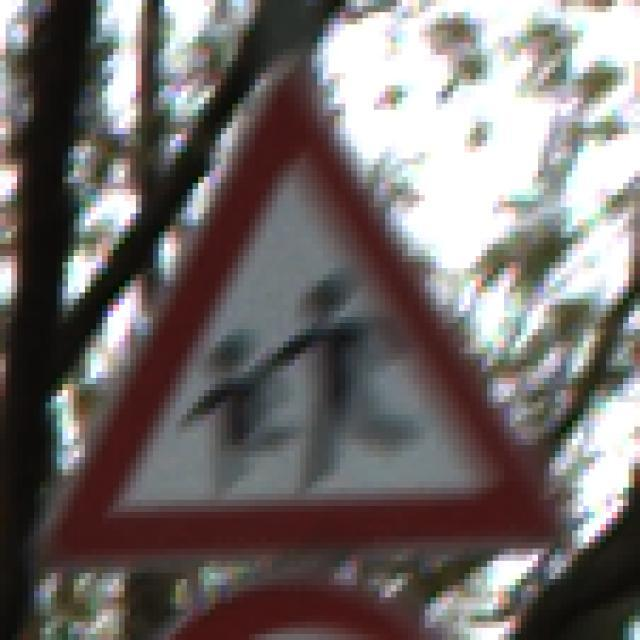school ahead: (45, 51, 564, 567)
